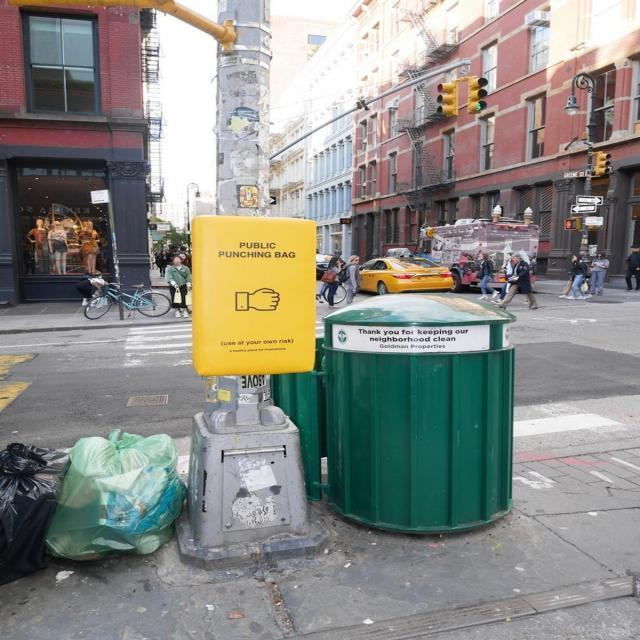high trash: (0, 430, 185, 583)
